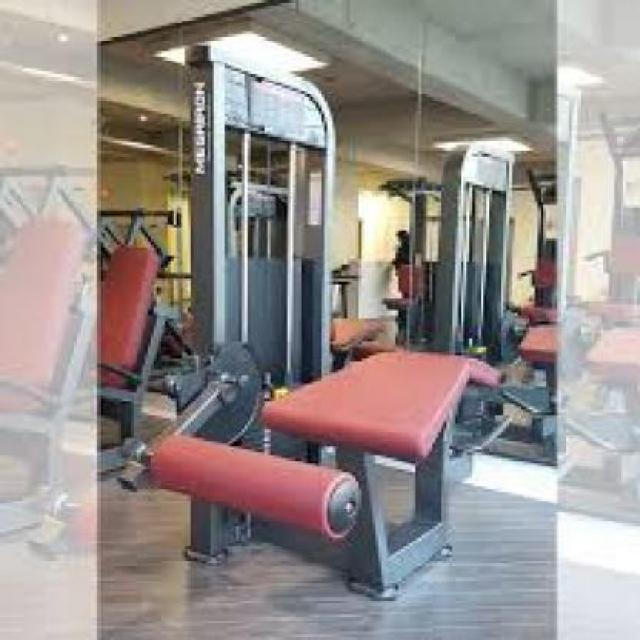reg curl machine: (104, 45, 518, 606)
